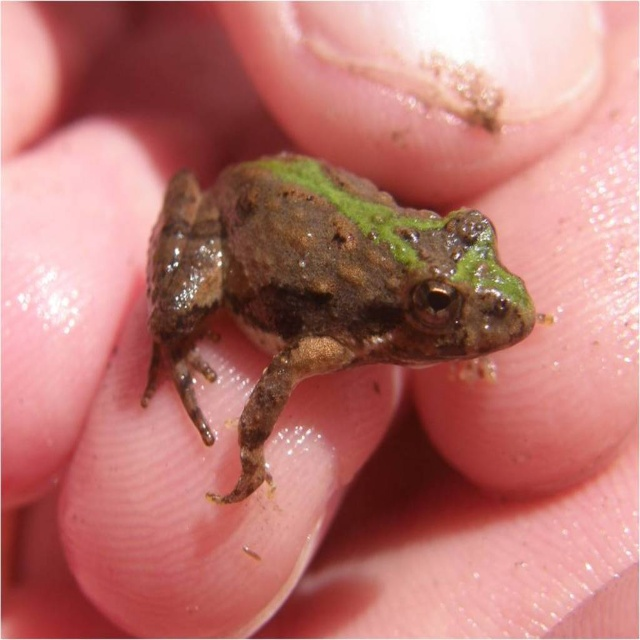Frog: (140, 149, 556, 504)
